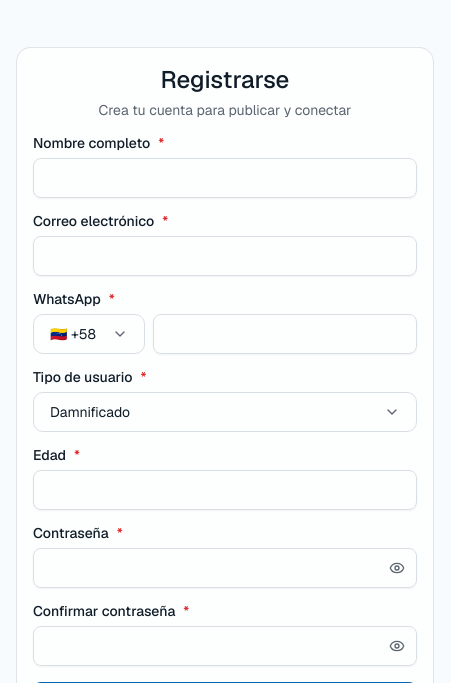
RegisterPage › accepts a valid Venezuelan WhatsApp number
Type "4121234567" into the field labelled "WhatsApp *".
click(285, 334); type("4121234567")  # box [153,314,417,354]
(page scrolled)
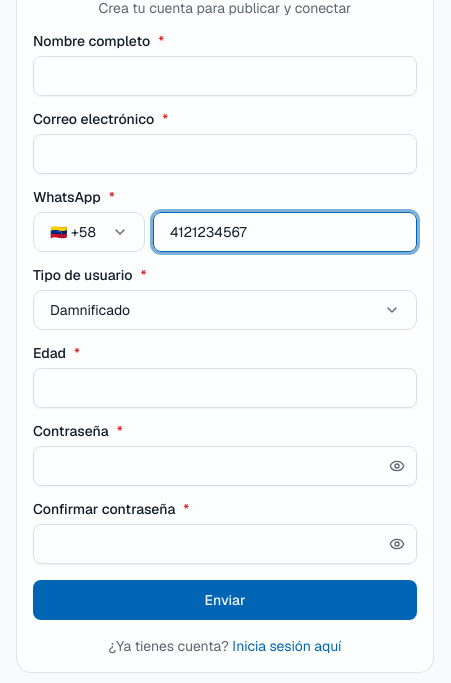
Click the button "Enviar".
click(225, 600)  # box [33,580,417,620]
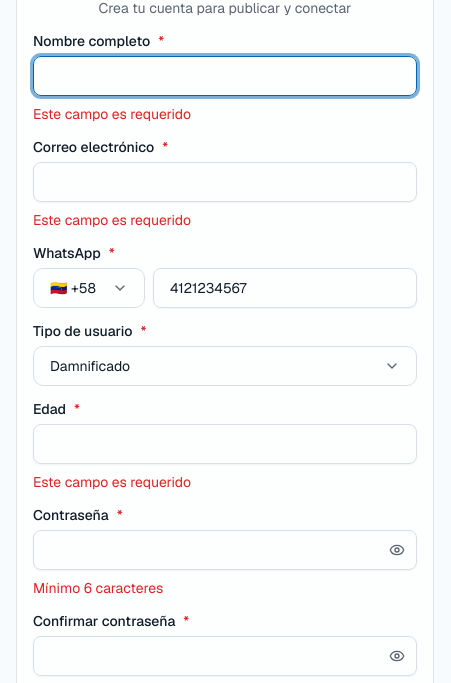
Expected: the text "Este campo es requerido" below "Nombre completo" is shown, [33,105,191,123]
